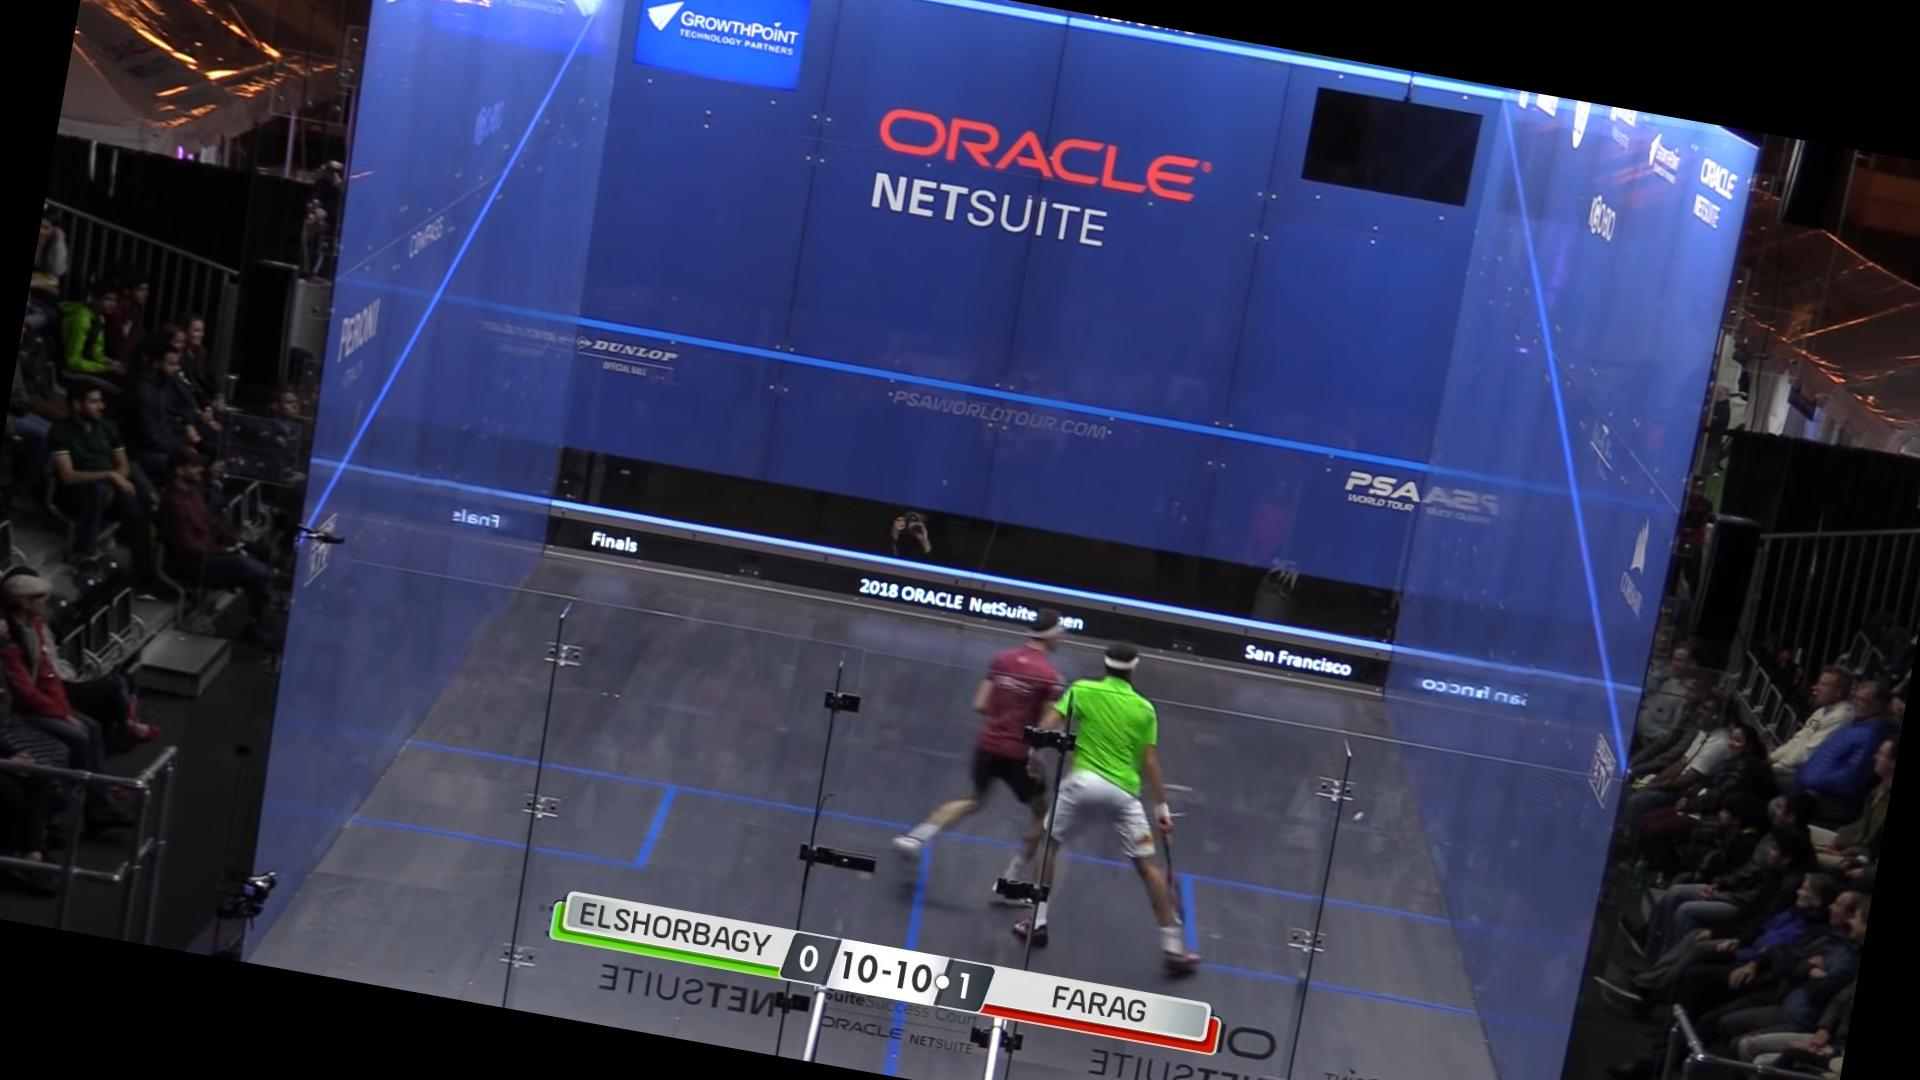Squash-Ball: (1345, 804, 1377, 836)
